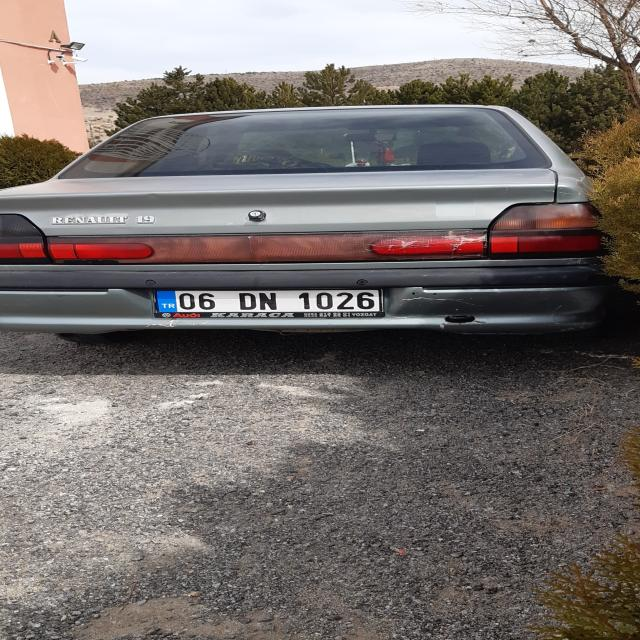plate: (154, 289, 382, 312)
